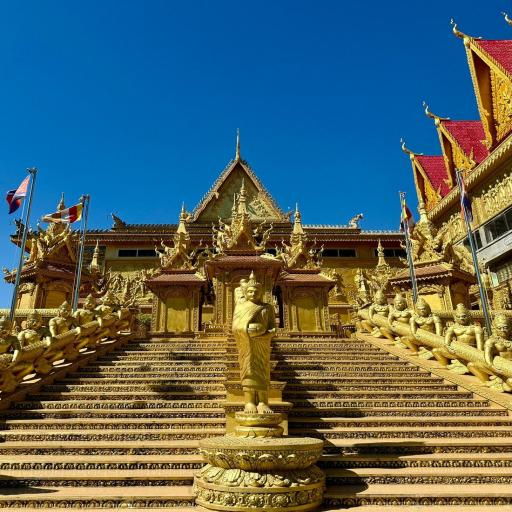lua: (446, 16, 484, 53), (415, 98, 453, 132), (395, 136, 424, 160), (58, 221, 76, 242), (394, 239, 415, 257), (234, 126, 244, 162), (431, 222, 449, 242), (498, 6, 512, 30), (34, 218, 49, 239), (237, 208, 250, 232), (23, 222, 37, 242), (444, 230, 461, 246), (216, 214, 231, 232), (259, 222, 274, 240), (188, 238, 206, 252), (158, 239, 174, 254), (210, 222, 224, 238), (278, 236, 292, 252), (404, 232, 420, 246), (150, 244, 167, 257), (252, 216, 266, 230), (208, 240, 222, 254), (311, 244, 325, 257), (306, 236, 318, 250), (72, 226, 78, 242)
ran: (344, 211, 368, 231), (107, 212, 128, 232), (10, 220, 28, 236), (182, 206, 196, 225), (280, 208, 296, 223), (158, 254, 174, 268), (203, 244, 215, 260), (271, 244, 283, 260), (395, 256, 411, 268), (192, 254, 202, 270)
than: (223, 270, 287, 421), (461, 312, 512, 393), (425, 301, 483, 368), (12, 306, 60, 378), (42, 296, 86, 366), (68, 285, 108, 360), (0, 314, 32, 398), (92, 280, 129, 352), (394, 296, 442, 351), (358, 287, 398, 337), (376, 292, 416, 342)
